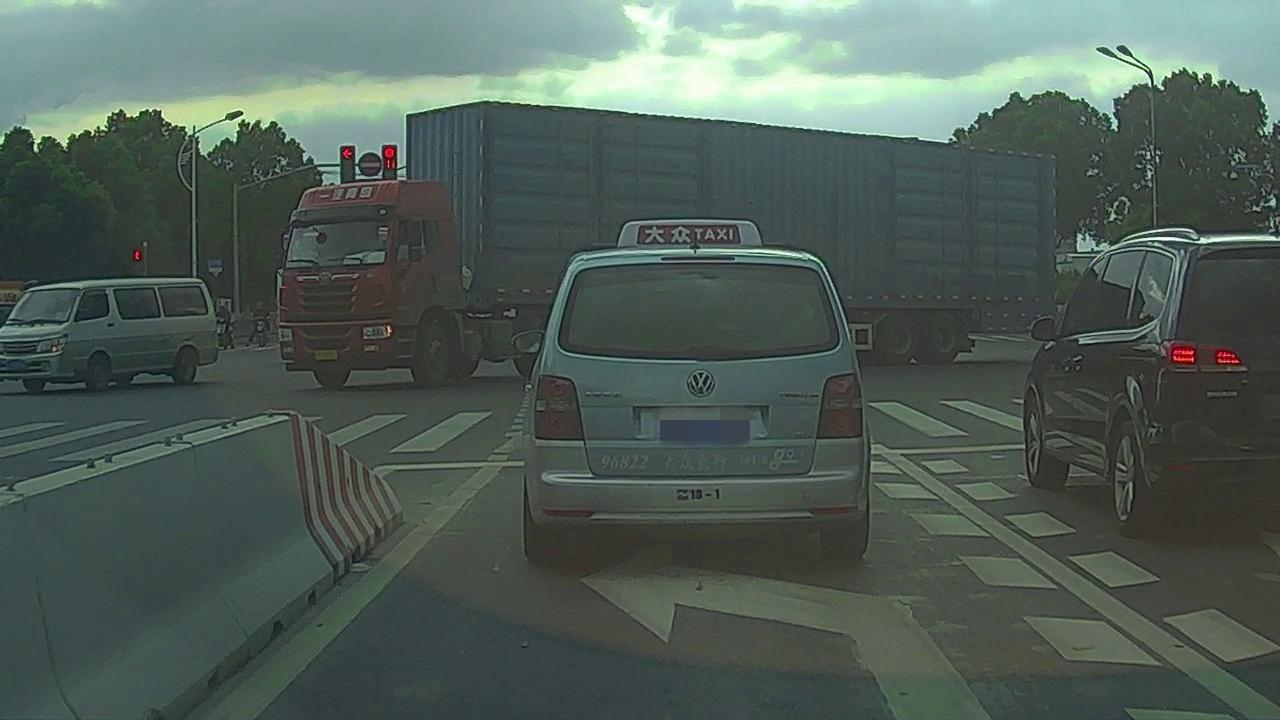traffic_light: (381, 145, 396, 180), (340, 146, 354, 183)
